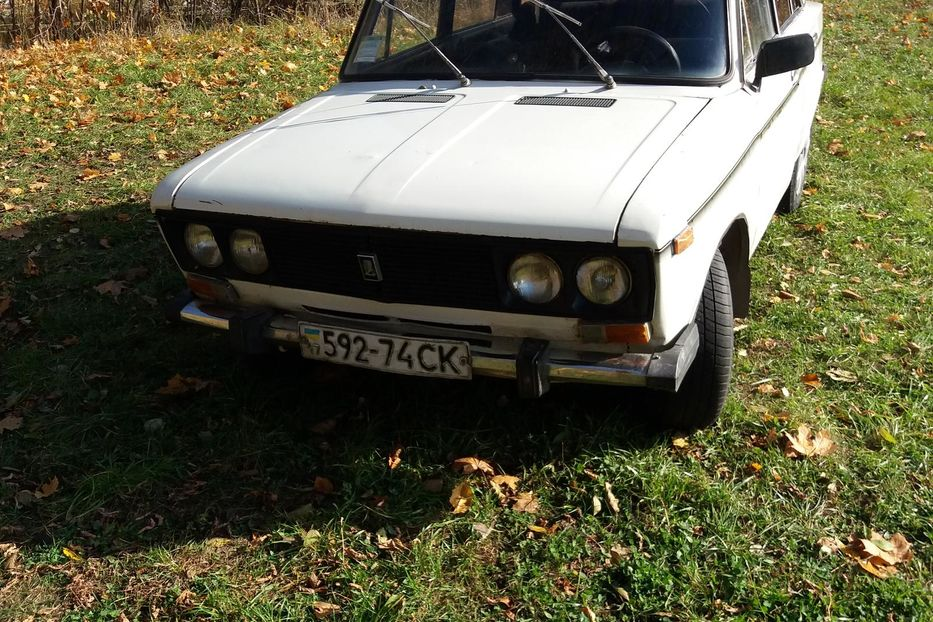car: (147, 1, 830, 430)
plate: (301, 322, 471, 379)
